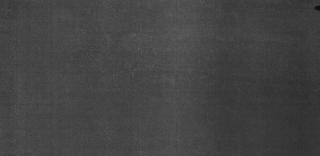punching hole: (313, 4, 319, 10)
